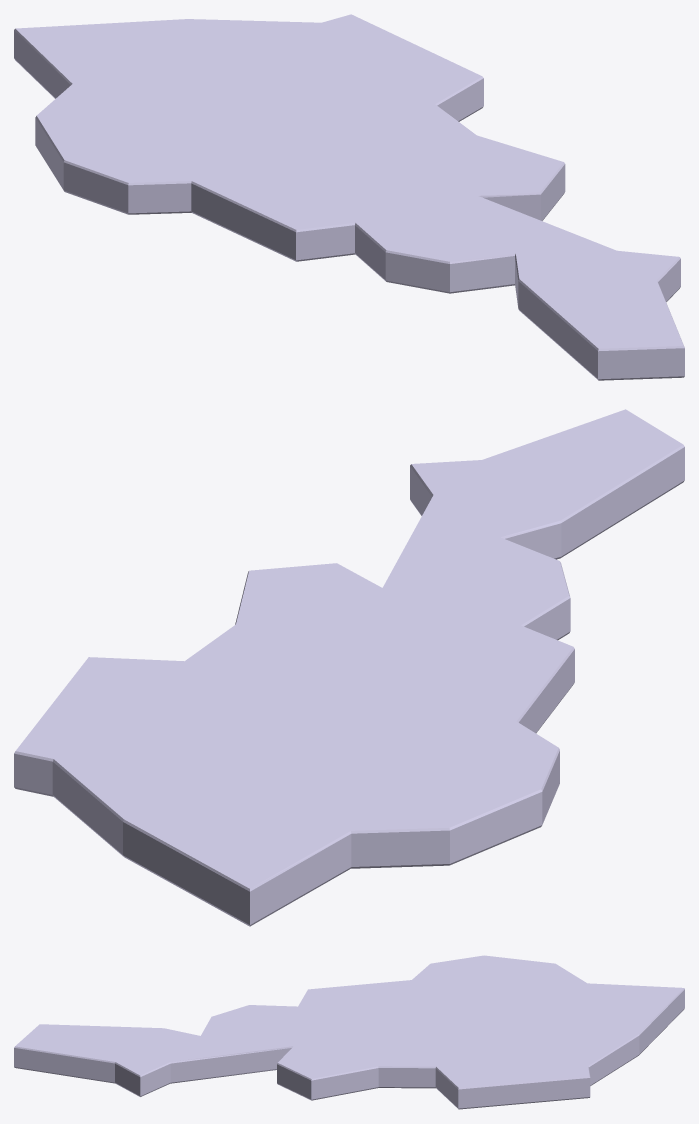
File: ARM.glb
3 views of the same model, one above another, from view 1: azimuth 30°, elevation 25°; view 2: azimuth 150°, elevation 25°; view 3: azimuth 270°, elevation 25° (orthographic). The views are drawn at different scales.
Bounding box in the file's own units: 0.8972 × 0.068 × 1.91.
